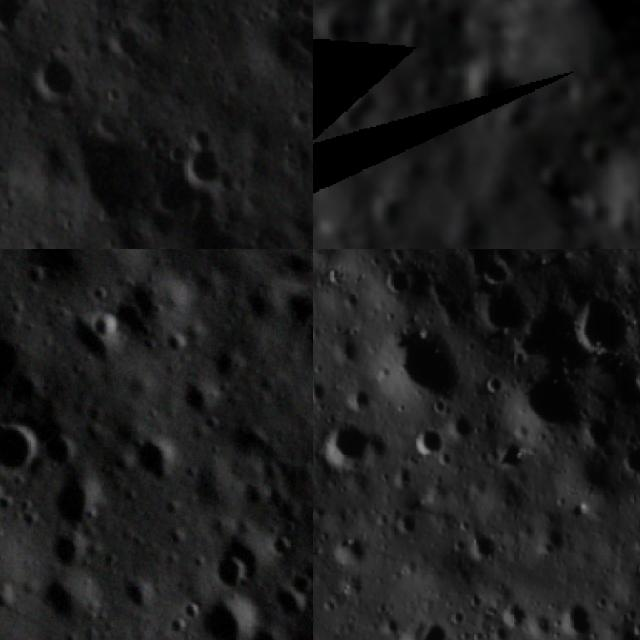crater: (59, 120, 164, 222), (24, 446, 124, 546), (20, 548, 114, 640), (378, 318, 468, 412), (178, 566, 281, 640), (116, 416, 196, 496), (510, 368, 590, 444), (195, 524, 271, 600), (159, 356, 235, 431), (0, 399, 57, 490), (512, 303, 585, 369), (174, 202, 274, 249), (576, 288, 640, 361), (22, 48, 88, 114), (168, 128, 234, 188), (318, 411, 373, 475), (456, 57, 510, 121), (76, 298, 133, 356), (339, 84, 384, 150), (482, 282, 536, 336), (551, 591, 594, 640), (328, 530, 372, 570), (472, 250, 518, 288), (301, 396, 313, 525), (330, 330, 367, 370), (464, 527, 501, 565), (413, 421, 447, 460), (396, 614, 447, 640), (582, 138, 620, 172), (0, 0, 33, 36), (302, 497, 313, 577), (558, 120, 591, 146), (313, 374, 333, 411), (630, 359, 640, 395)
